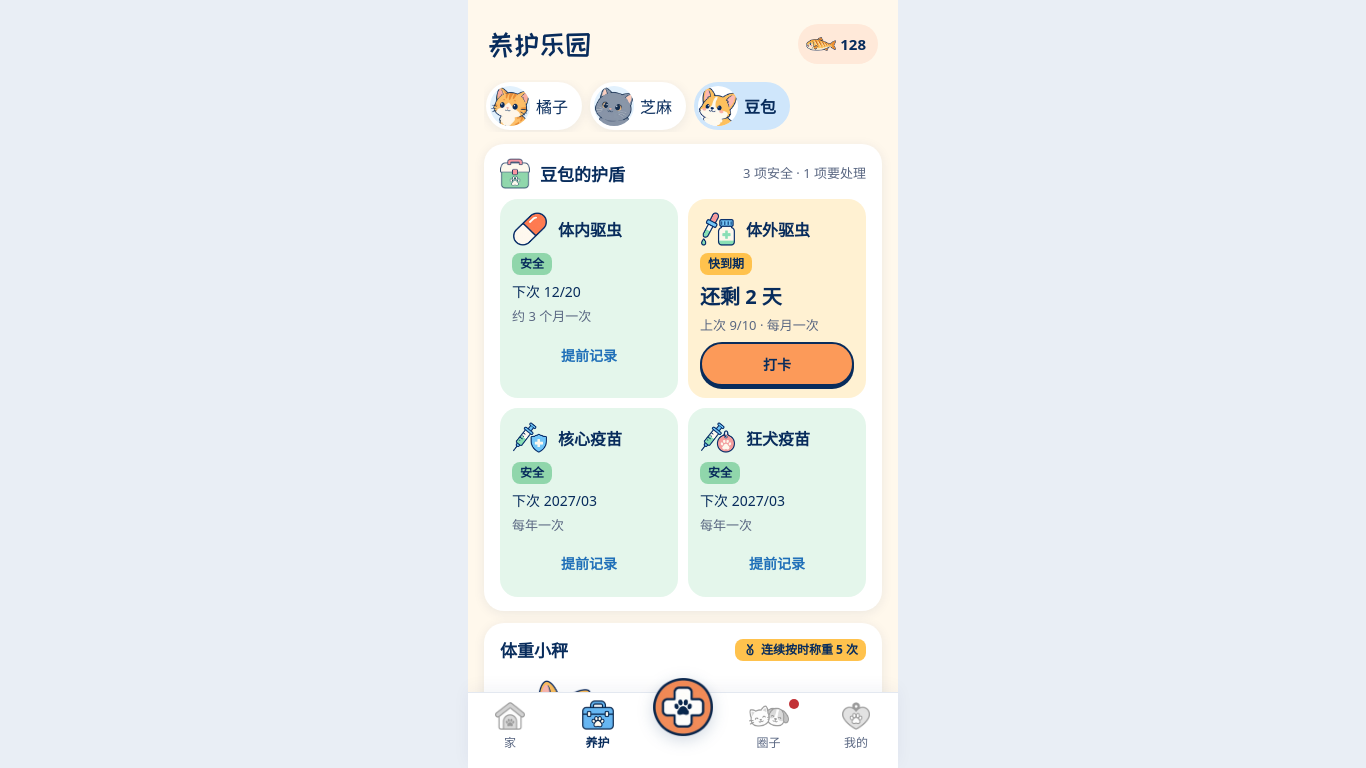
养护 › 护盾打卡：选实际日期确认，按时 +10，护盾回到安全
Expected: the text "还剩 2 天" is shown, [700,283,782,310]
Expected: the text "连续按时称重 5 次" is shown, [761,640,858,658]
What coordinates should you click on to do the following:
click the button "打卡"
I would click on:
 (777, 364)
Its box is [700,342,854,386].
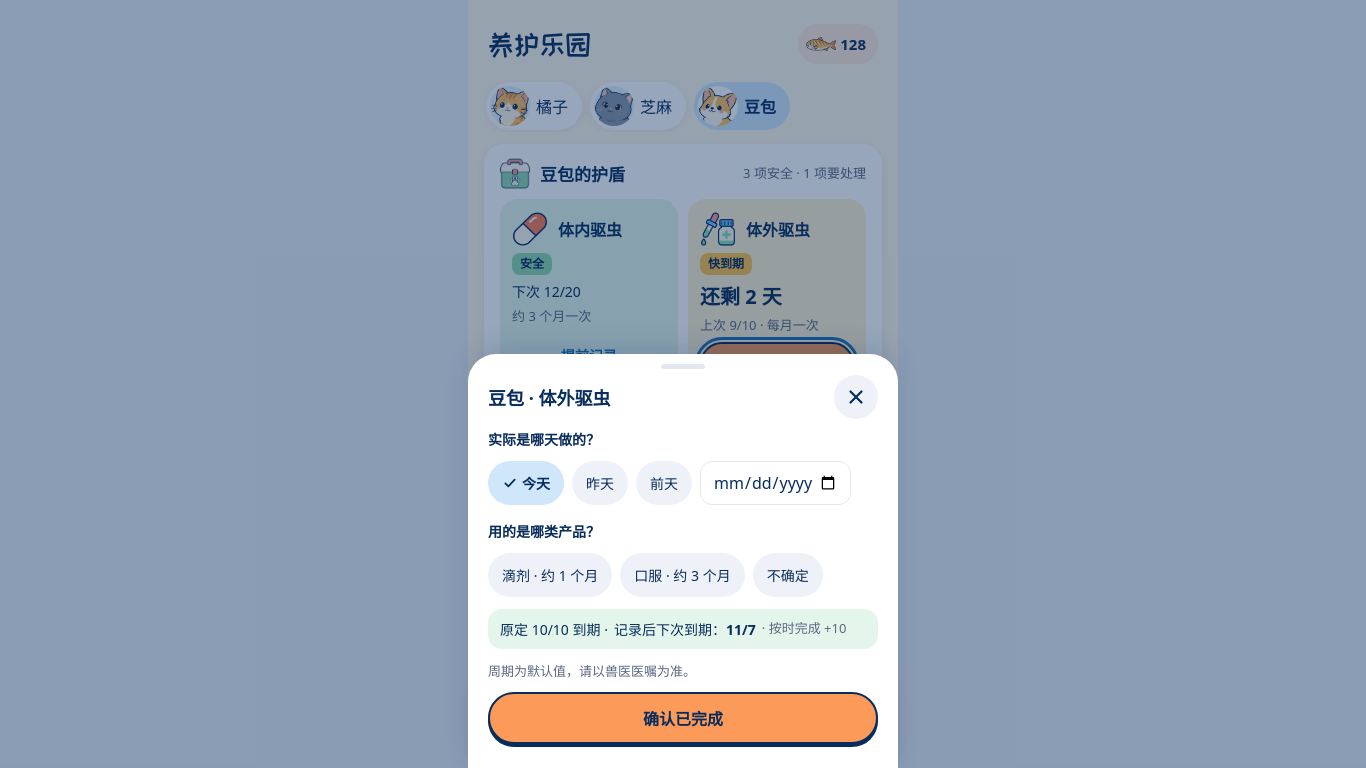
Now the text "· 按时完成 +10" is shown, box [762,619,846,639]
What coordinates should you click on to do the following:
click the button "确认已完成"
I would click on:
 (683, 718)
Its box is [488,692,878,744].
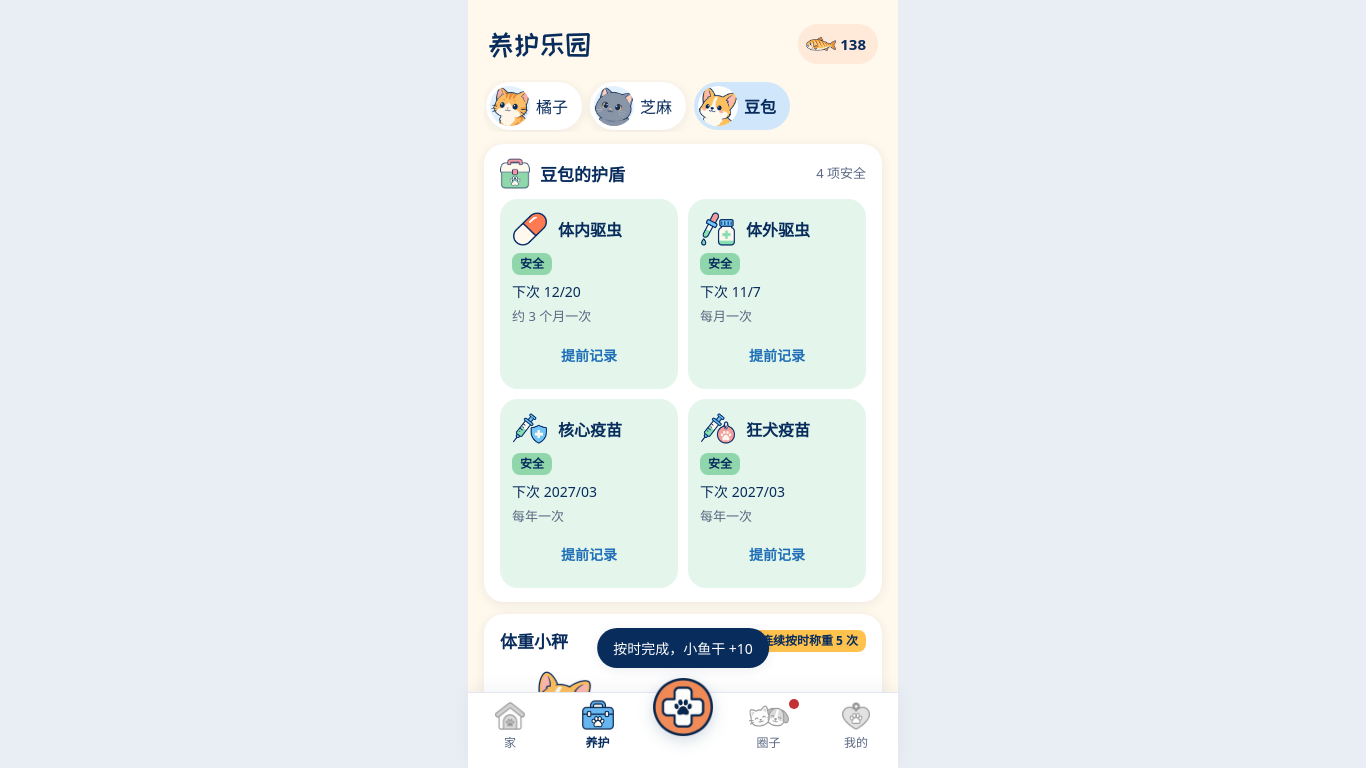
Now the message reads "按时完成，小鱼干 +10", box [613,639,753,658]
Now the text "还剩 2 天" is gone
